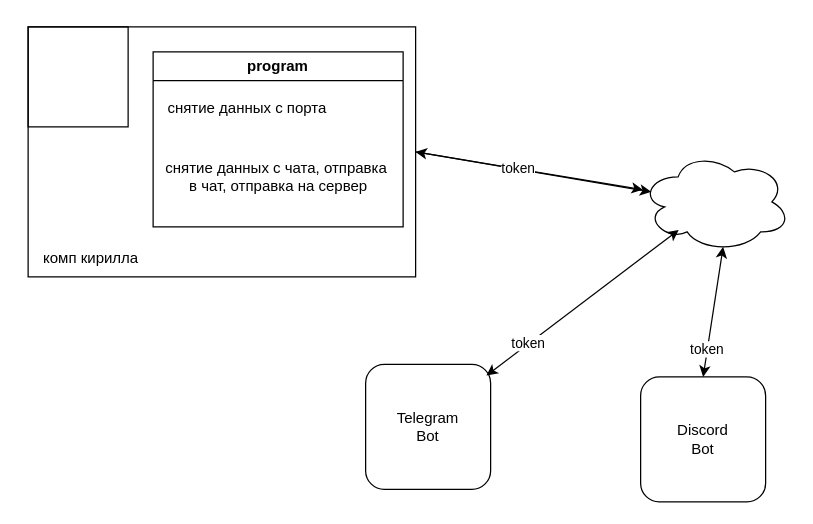
The diagram is 813 pixels wide and 524 high, and some of its shapes have lost their labels. The shapes that lost their labels are listed below. From the top down, each one's centre as x and y in pixels, then its label:
At (x=77, y=76): "minecraft".
At (x=715, y=201): "Gist".
